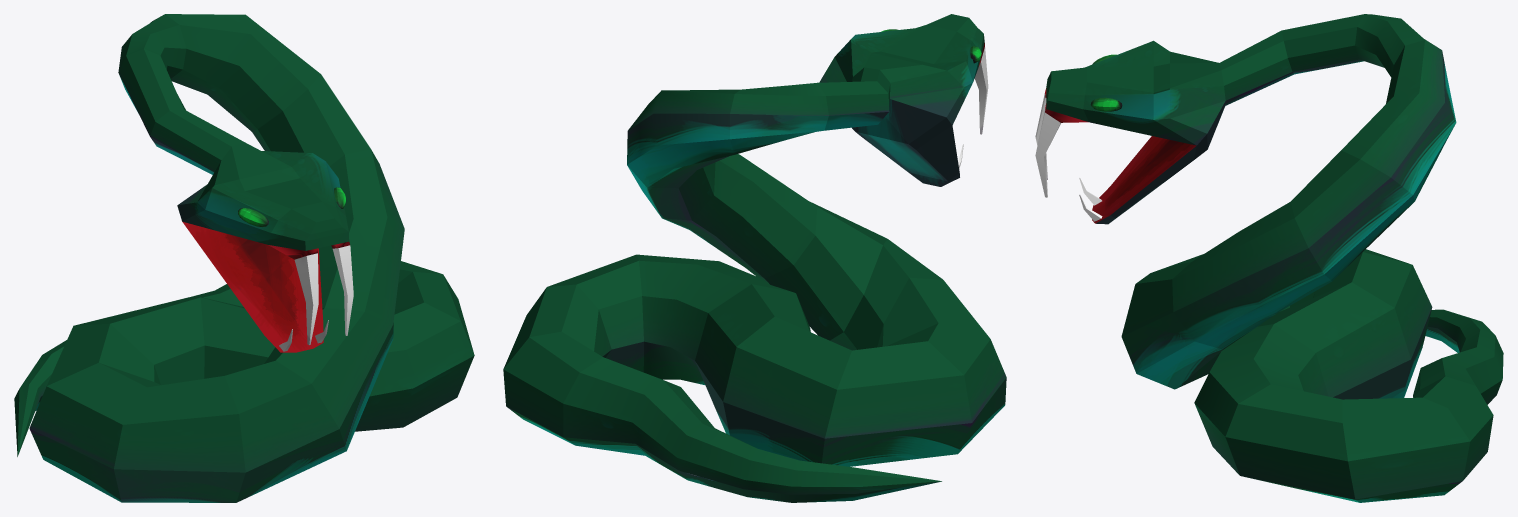
The model's file is Asset_Enemy_Snake.fbx.
3 views of the same model, side by side, from view 1: azimuth 30°, elevation 25°; view 2: azimuth 150°, elevation 25°; view 3: azimuth 270°, elevation 25° (orthographic). The views are drawn at different scales.
Parts seen in each view (by area): view 1: polySurface_snake; view 2: polySurface_snake; view 3: polySurface_snake.
Boxes of the visible parts, x1,y1,x2,y2 form: polySurface_snake: (14, 14, 474, 502); polySurface_snake: (503, 14, 1006, 502); polySurface_snake: (1035, 14, 1503, 502).
Bounding box in the file's own units: 64.94 × 53.1 × 62.24.
